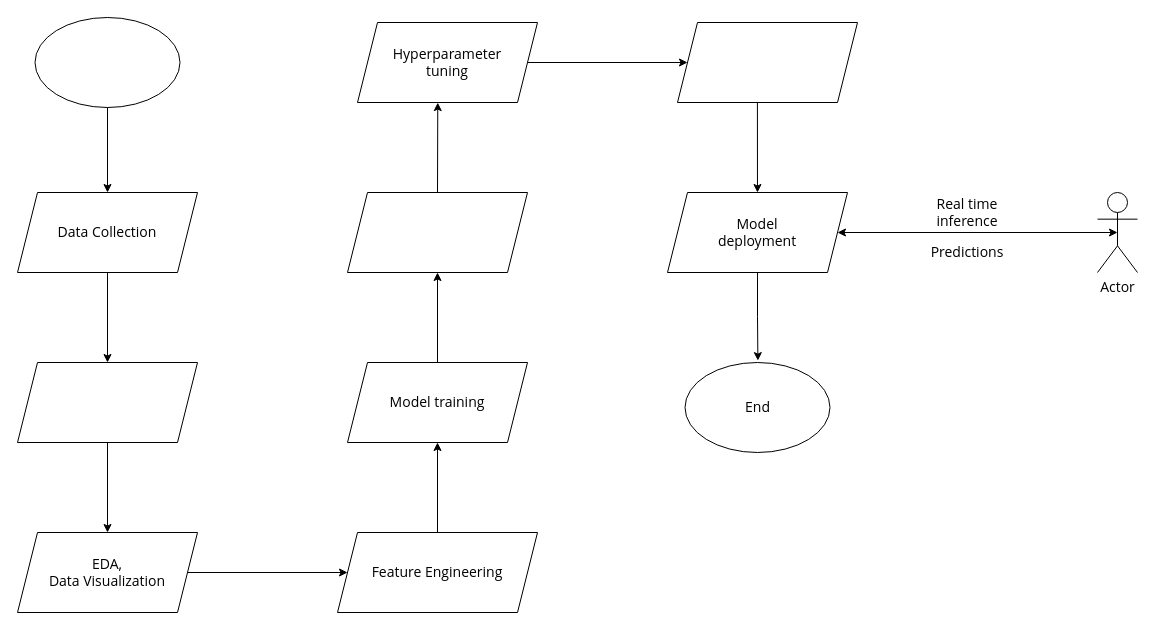
Image size: 1155x630. Some labels were removed from this diagram. Each missing label, with the centre of its shape:
"Best model" belongs at pixel 767 62.
"Data cleaning, handling missing values" belongs at pixel 107 402.
"Evaluate model" belongs at pixel 437 232.
"Start" belongs at pixel 107 62.
